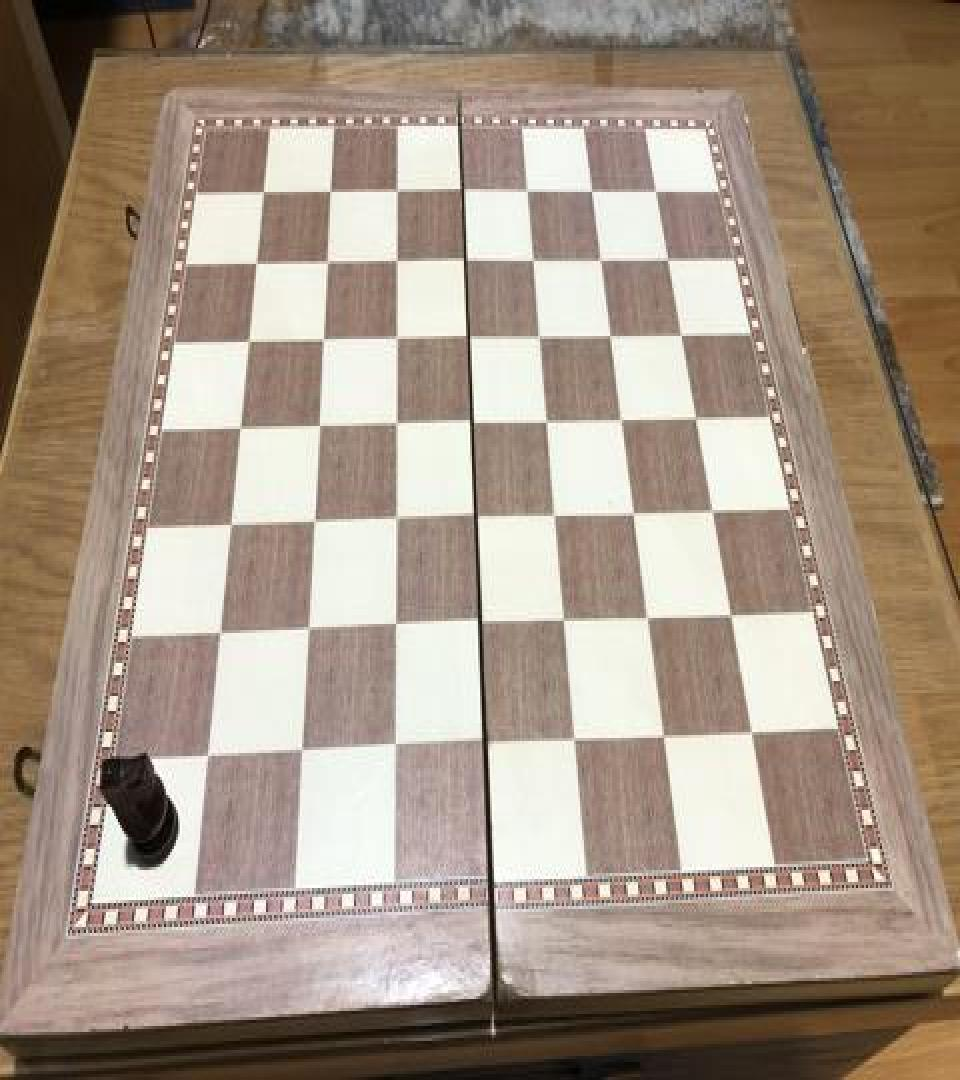xcorner: (718, 595, 742, 632), (552, 601, 576, 638), (739, 712, 763, 749), (288, 733, 312, 770), (643, 174, 667, 210), (579, 174, 603, 210), (515, 174, 539, 210), (450, 174, 474, 210), (385, 174, 409, 210), (318, 176, 342, 212), (251, 176, 275, 212), (655, 242, 679, 278), (588, 242, 612, 278), (521, 243, 545, 279), (453, 243, 477, 279), (384, 244, 408, 280), (315, 244, 339, 280), (244, 246, 268, 282), (668, 316, 692, 352), (598, 318, 622, 354), (528, 318, 552, 354), (456, 320, 480, 356), (384, 321, 408, 357), (310, 322, 334, 358), (236, 322, 260, 358), (683, 399, 707, 435), (609, 400, 633, 436), (535, 402, 559, 438), (459, 405, 483, 441), (383, 406, 407, 442), (306, 408, 330, 444), (228, 410, 252, 446), (700, 492, 724, 528), (622, 494, 646, 530), (543, 496, 567, 532), (463, 500, 487, 536), (382, 501, 406, 537), (300, 504, 324, 540), (218, 506, 242, 542), (636, 598, 660, 634), (467, 604, 491, 640), (382, 608, 406, 644), (295, 612, 319, 648), (207, 615, 231, 651), (651, 717, 675, 753), (562, 720, 586, 756), (472, 724, 496, 760), (381, 729, 405, 765), (194, 738, 218, 774)
